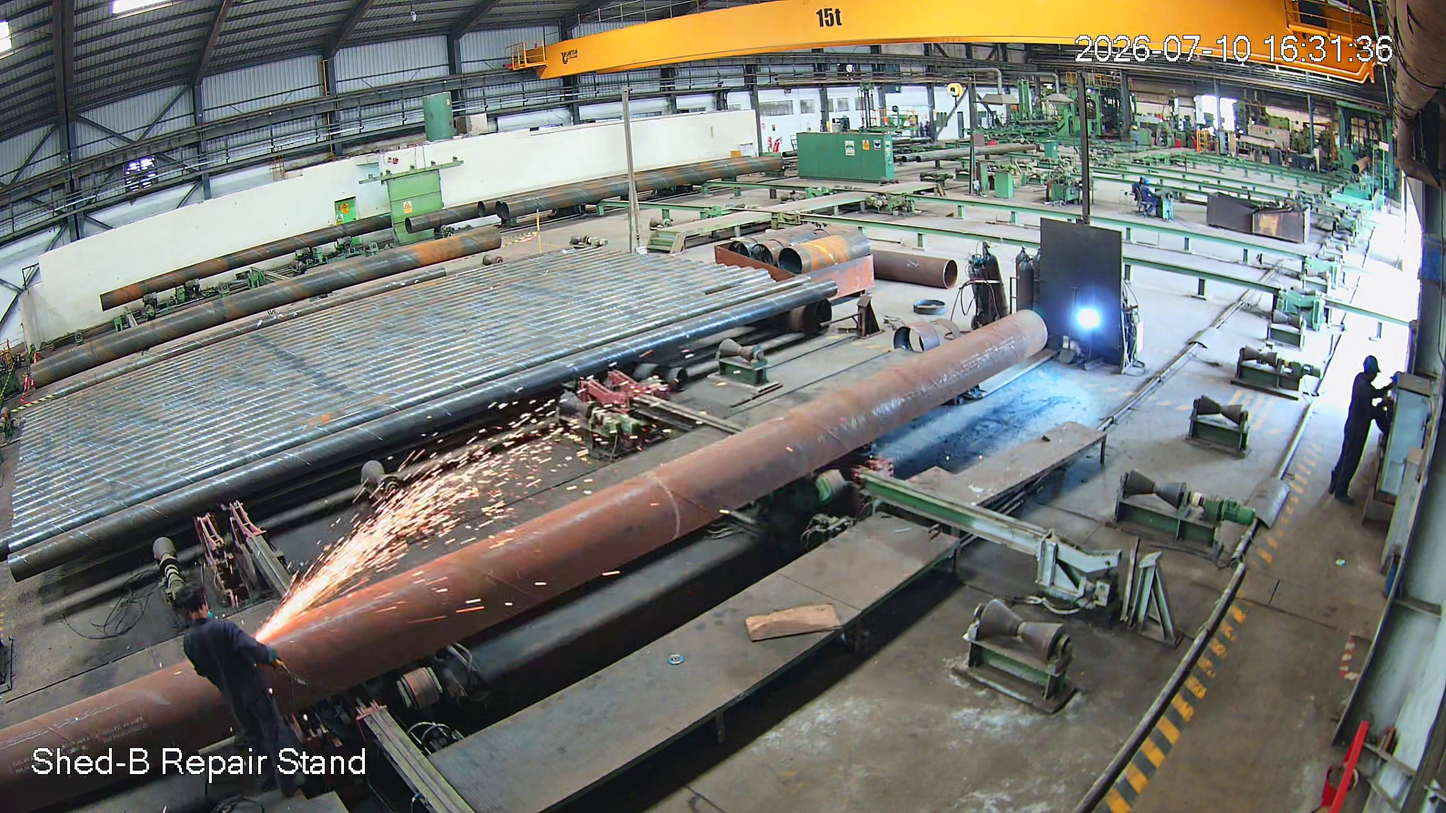Helmet: (1360, 351, 1391, 390)
Person: (179, 577, 325, 804), (1328, 355, 1388, 501)
